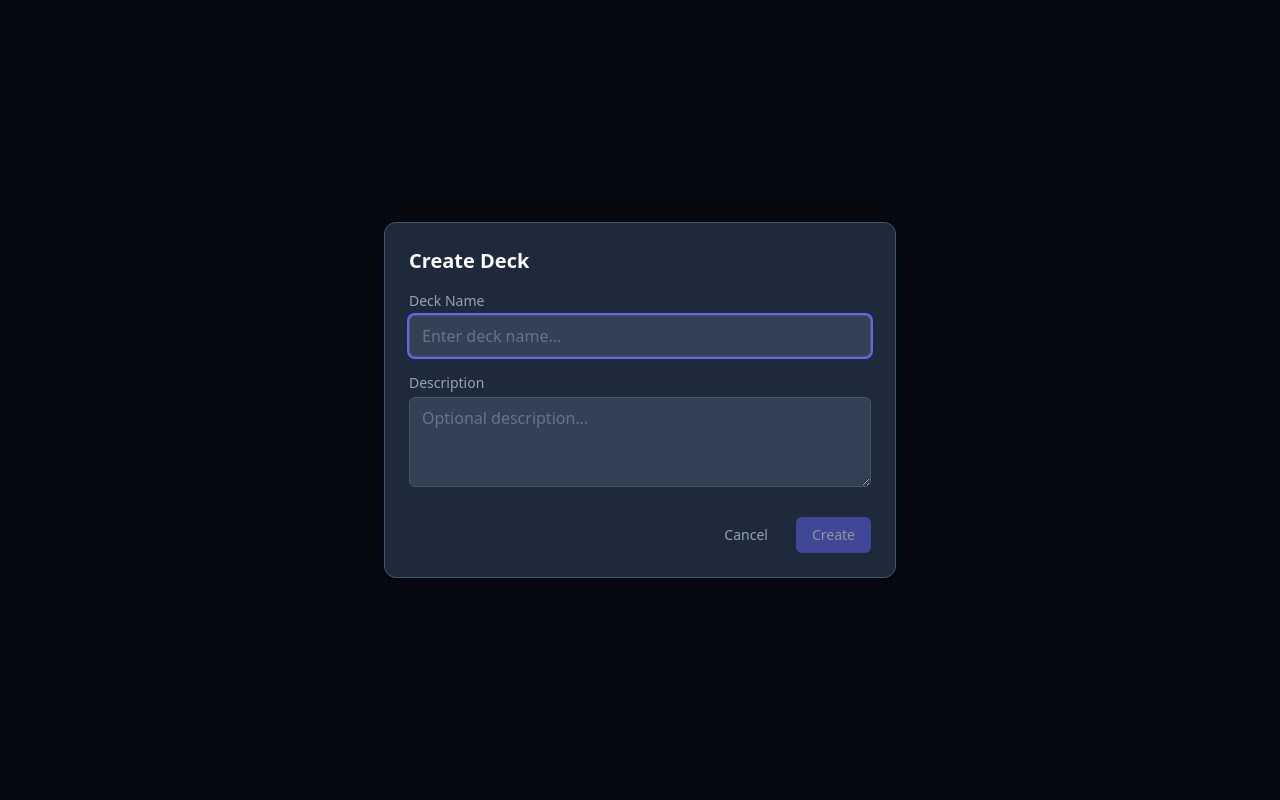
it: DeckCreateModal › create button enabled when name has content
Type "My Deck" into the field with test id "create-deck-name-input". click: x=640, y=336
box: [409,315,871,357]
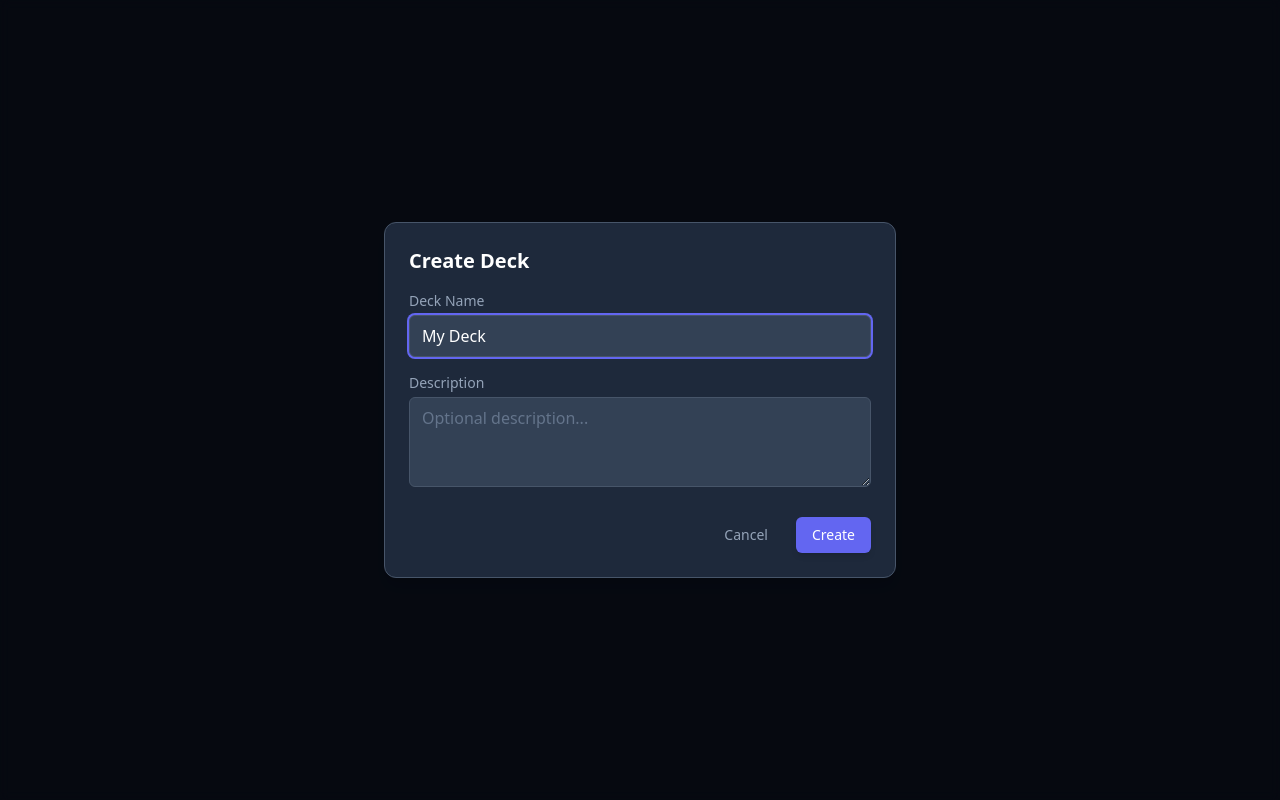
Expected: the button with test id "submit-create-btn" is enabled, [796,517,871,553]
